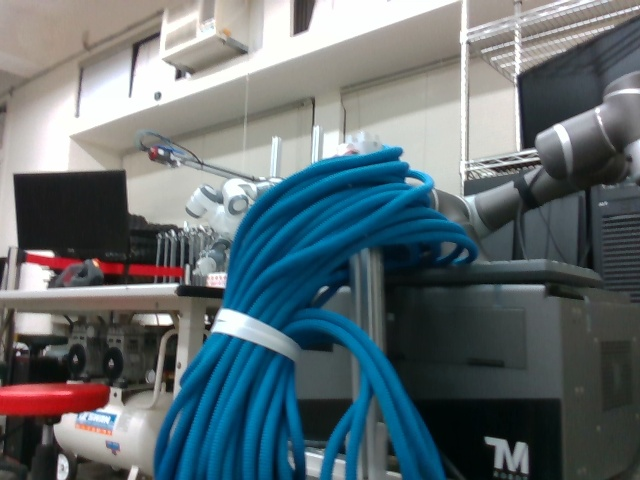rope: (161, 147, 443, 480)
